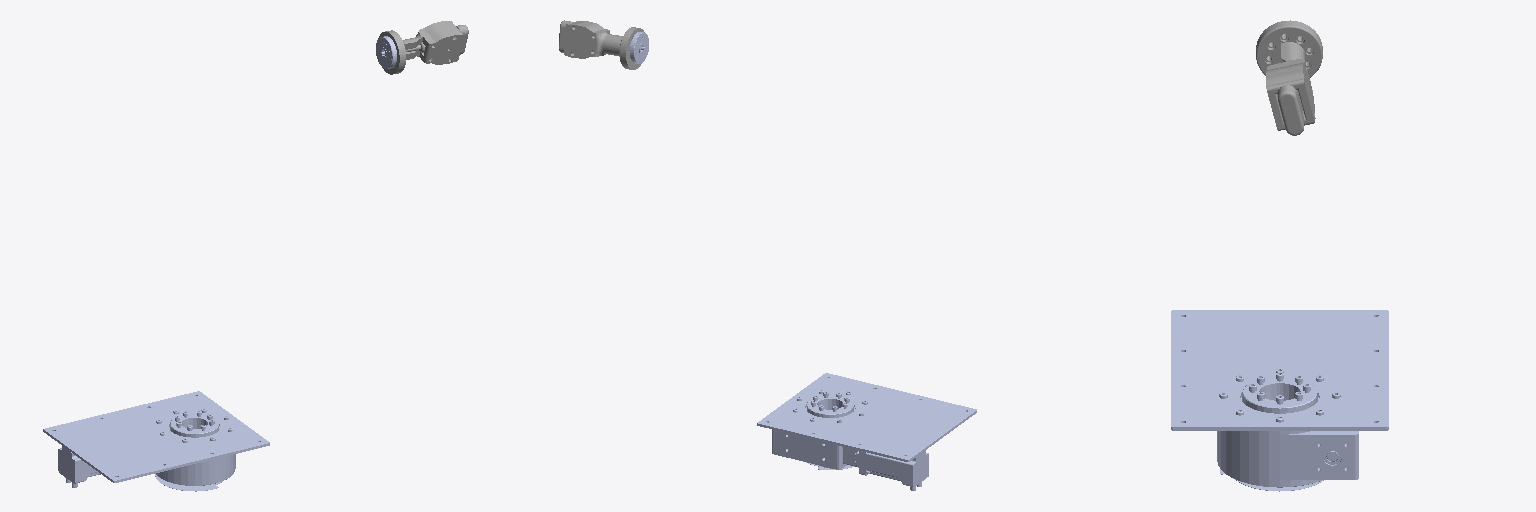
URDF robot description (asm_1):
<?xml version="1.0" encoding="utf-8" ?>
<!-- This URDF was automatically created by SolidWorks to URDF Exporter! Originally created by [author] ([email redacted]) 
     Commit Version: 1.5.1-0-g916b5db  Build Version: 1.5.7152.31018
     For more information, please see http://wiki.ros.org/sw_urdf_exporter -->
<robot name="asm_1">
    <link name="world" />
    <joint name="world_joint" type="fixed">
        <origin xyz="0.0 0.0 0.0" rpy="0.0 0.0 0.0" />
        <parent link="world" />
        <child link="base_link" />
    </joint>
    <link name="base_link">
        <inertial>
            <origin xyz="0.0 0.0 0.0" rpy="0 0 0" />
            <mass value="2.4607" />
            <inertia ixx="0.0069217" ixy="-1.0599E-06" ixz="1.1757E-07" iyy="0.012469" iyz="2.0494E-07" izz="0.0076194" />
        </inertial>
        <visual>
            <origin xyz="0 0 0" rpy="0 0 0" />
            <geometry>
                <mesh filename="package://igus_robot/meshes/base_link.STL" />
            </geometry>
            <material name="">
                <color rgba="0.79216 0.81961 0.93333 1" />
            </material>
        </visual>
        <collision>
            <origin xyz="0 0 0" rpy="0 0 0" />
            <geometry>
                <mesh filename="package://igus_robot/meshes/base_link.STL" />
            </geometry>
        </collision>
    </link>
    <link name="Link_1">
        <inertial>
            <origin xyz="-0.026118 -1.7545E-05 -0.11163" rpy="0 0 0" />
            <mass value="2.6429" />
            <inertia ixx="0.0067366" ixy="-1.1774E-06" ixz="8.9568E-05" iyy="0.0097419" iyz="2.9557E-07" izz="0.0057265" />
        </inertial>
        <visual>
            <origin xyz="0 0 0" rpy="0 0 0" />
            <geometry>
                <mesh filename="package://igus_robot/meshes/Link_1.STL" />
            </geometry>
            <material name="">
                <color rgba="0.79216 0.81961 0.93333 1" />
            </material>
        </visual>
        <collision>
            <origin xyz="0 0 0" rpy="0 0 0" />
            <geometry>
                <mesh filename="package://igus_robot/meshes/Link_1.STL" />
            </geometry>
        </collision>
    </link>
    <!--joint1.................-->
    <joint name="Joint_1" type="revolute">
        <origin xyz="0.25645 -0.2011 0.20188" rpy="-3.1416 0 0.020516" />
        <parent link="base_link" />
        <child link="Link_1" />
        <axis xyz="0 0 1" />
        <limit lower="0" upper="6.28318530718" effort="300" velocity="1" />
    </joint>
    <link name="Link_2">
        <inertial>
            <origin xyz="0.0032077 1.2812E-07 -0.24166" rpy="0 0 0" />
            <mass value="1.3839" />
            <inertia ixx="0.0068039" ixy="-6.6512E-06" ixz="7.6969E-06" iyy="0.0081999" iyz="-1.9388E-08" izz="0.0021627" />
        </inertial>
        <visual>
            <origin xyz="0 0 0" rpy="0 0 0" />
            <geometry>
                <mesh filename="package://igus_robot/meshes/Link_2.STL" />
            </geometry>
            <material name="">
                <color rgba="0.79216 0.81961 0.93333 1" />
            </material>
        </visual>
        <collision>
            <origin xyz="0 0 0" rpy="0 0 0" />
            <geometry>
                <mesh filename="package://igus_robot/meshes/Link_2.STL" />
            </geometry>
        </collision>
    </link>
    <!--joint2............-->
    <joint name="Joint_2" type="revolute">
        <origin xyz="0 0 -0.145" rpy="0 -0.050649 0" />
        <parent link="Link_1" />
        <child link="Link_2" />
        <axis xyz="0 1 0" />
        <limit lower="-1.6" upper="1.28318530718" effort="300" velocity="1" />
    </joint>
    <link name="Link_3">
        <inertial>
            <origin xyz="0.18475 -6.2782E-05 0.0021847" rpy="0 0 0" />
            <mass value="0.90865" />
            <inertia ixx="0.00095312" ixy="-9.4802E-08" ixz="3.6486E-06" iyy="0.0038465" iyz="-2.0287E-06" izz="0.0031374" />
        </inertial>
        <visual>
            <origin xyz="0 0 0" rpy="0 0 0" />
            <geometry>
                <mesh filename="package://igus_robot/meshes/Link_3.STL" />
            </geometry>
            <material name="">
                <color rgba="0.79216 0.81961 0.93333 1" />
            </material>
        </visual>
        <collision>
            <origin xyz="0 0 0" rpy="0 0 0" />
            <geometry>
                <mesh filename="package://igus_robot/meshes/Link_3.STL" />
            </geometry>
        </collision>
    </link>
    <!--joint3..............-->
    <joint name="Joint_3" type="revolute">
        <origin xyz="0 0 -0.35" rpy="0 0.73901 0" />
        <parent link="Link_2" />
        <child link="Link_3" />
        <axis xyz="0 1 0" />
        <limit lower="-1.0" upper="3.0" effort="300" velocity="1" />
    </joint>
    <link name="Link_4">
        <inertial>
            <origin xyz="0.00083749 -0.00079123 0.1299" rpy="0 0 0" />
            <mass value="0.14099" />
            <inertia ixx="5.7263E-05" ixy="7.6437E-08" ixz="1.4886E-06" iyy="5.8182E-05" iyz="-2.763E-09" izz="4.1521E-05" />
        </inertial>
        <visual>
            <origin xyz="0 0 0" rpy="0 0 0" />
            <geometry>
                <mesh filename="package://igus_robot/meshes/Link_4.STL" />
            </geometry>
            <material name="">
                <color rgba="0.79216 0.81961 0.93333 1" />
            </material>
        </visual>
        <collision>
            <origin xyz="0 0 0" rpy="0 0 0" />
            <geometry>
                <mesh filename="package://igus_robot/meshes/Link_4.STL" />
            </geometry>
        </collision>
    </link>
    <!--joint4........-->
    <joint name="Joint_4" type="revolute">
        <origin xyz="0.27 0 0" rpy="0 0.81997 0" />
        <parent link="Link_3" />
        <child link="Link_4" />
        <axis xyz="0 1 0" />
        <limit lower="-1.2" upper="2.78" effort="300" velocity="1" />
    </joint>
    <link name="End_Effector">
        <inertial>
            <origin xyz="1.2361E-05 -1.7117E-05 0.010046" rpy="0 0 0" />
            <mass value="0.026759" />
            <inertia ixx="6.1889E-06" ixy="-7.12E-08" ixz="-9.3008E-08" iyy="5.8567E-06" iyz="1.4823E-08" izz="1.1614E-05" />
        </inertial>
        <visual>
            <origin xyz="0 0 0" rpy="0 0 0" />
            <geometry>
                <mesh filename="package://igus_robot/meshes/End_Effector.STL" />
            </geometry>
            <material name="">
                <color rgba="0.79216 0.81961 0.93333 1" />
            </material>
        </visual>
        <collision>
            <origin xyz="0 0 0" rpy="0 0 0" />
            <geometry>
                <mesh filename="package://igus_robot/meshes/End_Effector.STL" />
            </geometry>
        </collision>
    </link>
    <!--joint5...............-->
    <joint name="Joint_5" type="revolute">
        <origin xyz="0 -0.0005 0.17384" rpy="0 0 0.28549" />
        <parent link="Link_4" />
        <child link="End_Effector" />
        <axis xyz="0 0 1" />
        <limit lower="0" upper="6.28318530718" effort="300" velocity="1" />
    </joint>
    <link name="tool_link">
        <visual>
            <origin xyz="0 0 0" rpy="0 0 0" />
            <geometry>
                <mesh filename="package://igus_robot/meshes/tool1.STL" />
            </geometry>
            <!-- <material
        name="">
        <color
          rgba="0.79216 0.81961 0.93333 1" />
      </material> -->
        </visual>
        <collision>
            <origin xyz="0 0 0" rpy="0 0 0" />
            <geometry>
                <mesh filename="package://igus_robot/meshes/tool1.STL" />
            </geometry>
        </collision>
        <inertial>
            <mass value="0.1" />
            <origin xyz="0 0 0" rpy="0 0 0" />
            <inertia ixx="0.03" iyy="0.03" izz="0.03" ixy="0.0" ixz="0.0" iyz="0.0" />
        </inertial>
    </link>
    <joint name="tool_joint" type="fixed">
        <origin xyz="0 0 .015" rpy="0 0 0" />
        <parent link="End_Effector" />
        <child link="tool_link" />
    </joint>
    <transmission name="trans_Joint_1">
        <type>transmission_interface/SimpleTransmission</type>
        <joint name="Joint_1">
            <hardwareInterface>hardware_interface/PositionJointInterface</hardwareInterface>
        </joint>
        <actuator name="Joint_1_motor">
            <hardwareInterface>hardware_interface/PositionJointInterface</hardwareInterface>
            <mechanicalReduction>1</mechanicalReduction>
        </actuator>
    </transmission>
    <transmission name="trans_Joint_2">
        <type>transmission_interface/SimpleTransmission</type>
        <joint name="Joint_2">
            <hardwareInterface>hardware_interface/PositionJointInterface</hardwareInterface>
        </joint>
        <actuator name="Joint_2_motor">
            <hardwareInterface>hardware_interface/PositionJointInterface</hardwareInterface>
            <mechanicalReduction>1</mechanicalReduction>
        </actuator>
    </transmission>
    <transmission name="trans_Joint_3">
        <type>transmission_interface/SimpleTransmission</type>
        <joint name="Joint_3">
            <hardwareInterface>hardware_interface/PositionJointInterface</hardwareInterface>
        </joint>
        <actuator name="Joint_3_motor">
            <hardwareInterface>hardware_interface/PositionJointInterface</hardwareInterface>
            <mechanicalReduction>1</mechanicalReduction>
        </actuator>
    </transmission>
    <transmission name="trans_Joint_4">
        <type>transmission_interface/SimpleTransmission</type>
        <joint name="Joint_4">
            <hardwareInterface>hardware_interface/PositionJointInterface</hardwareInterface>
        </joint>
        <actuator name="Joint_4_motor">
            <hardwareInterface>hardware_interface/PositionJointInterface</hardwareInterface>
            <mechanicalReduction>1</mechanicalReduction>
        </actuator>
    </transmission>
    <transmission name="trans_Joint_5">
        <type>transmission_interface/SimpleTransmission</type>
        <joint name="Joint_5">
            <hardwareInterface>hardware_interface/PositionJointInterface</hardwareInterface>
        </joint>
        <actuator name="Joint_5_motor">
            <hardwareInterface>hardware_interface/PositionJointInterface</hardwareInterface>
            <mechanicalReduction>1</mechanicalReduction>
        </actuator>
    </transmission>
    <gazebo>
        <plugin name="gazebo_ros_control">
            <robotNamespace>/</robotNamespace>
        </plugin>
    </gazebo>
</robot>

--- What the picture shows (computed from the rendered views, not written in the file) ---
Views: 3 orthographic renders of the robot side by side, from view 1: azimuth 30°, elevation 25°; view 2: azimuth 150°, elevation 25°; view 3: azimuth 270°, elevation 25°.
Robot: asm_1 — 8 links, 7 joints (5 revolute, 2 fixed); root link world; default pose: every joint at zero.
Links seen in each view (by area): view 1: base_link, tool_link, End_Effector; view 2: base_link, tool_link; view 3: base_link, tool_link.
Boxes of the visible links, x1,y1,x2,y2 form: base_link: (43, 391, 269, 491); tool_link: (378, 21, 468, 74); End_Effector: (376, 36, 396, 68); base_link: (757, 373, 976, 490); tool_link: (559, 20, 644, 69); base_link: (1171, 310, 1388, 491); tool_link: (1256, 20, 1322, 135).
Bounding box of the posed robot: 0.8235 × 0.26 × 0.7885 m (x, y, z).
3 mesh visuals loaded from 7 distinct referenced files (3 binary STL); not drawn: 4 (reference not matched to a file when rendering).